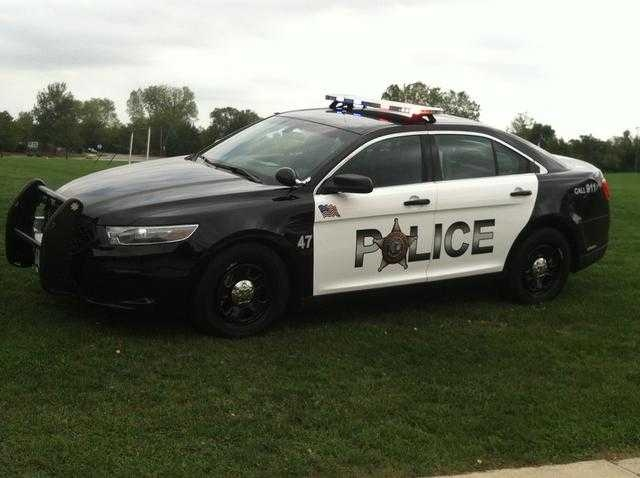Police Car: (19, 65, 640, 335)
